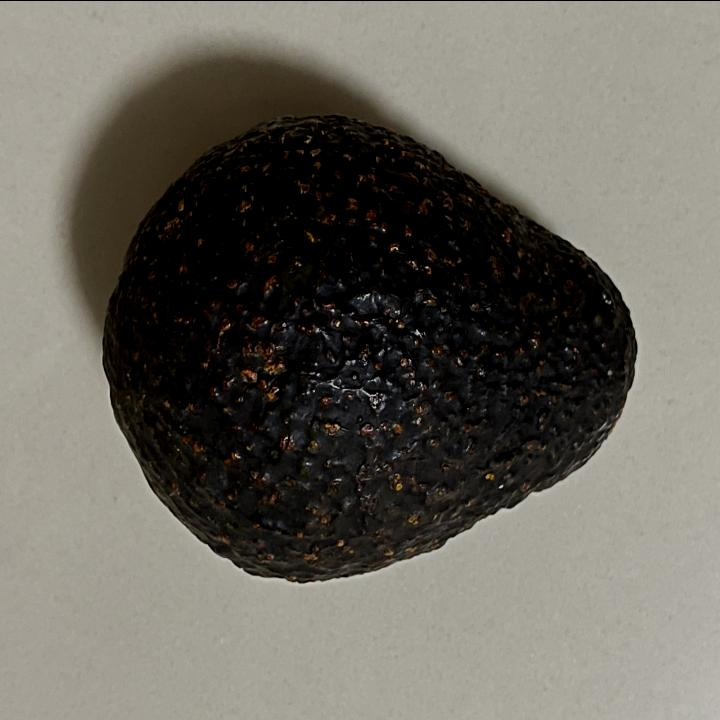Level2: (96, 102, 648, 596)
